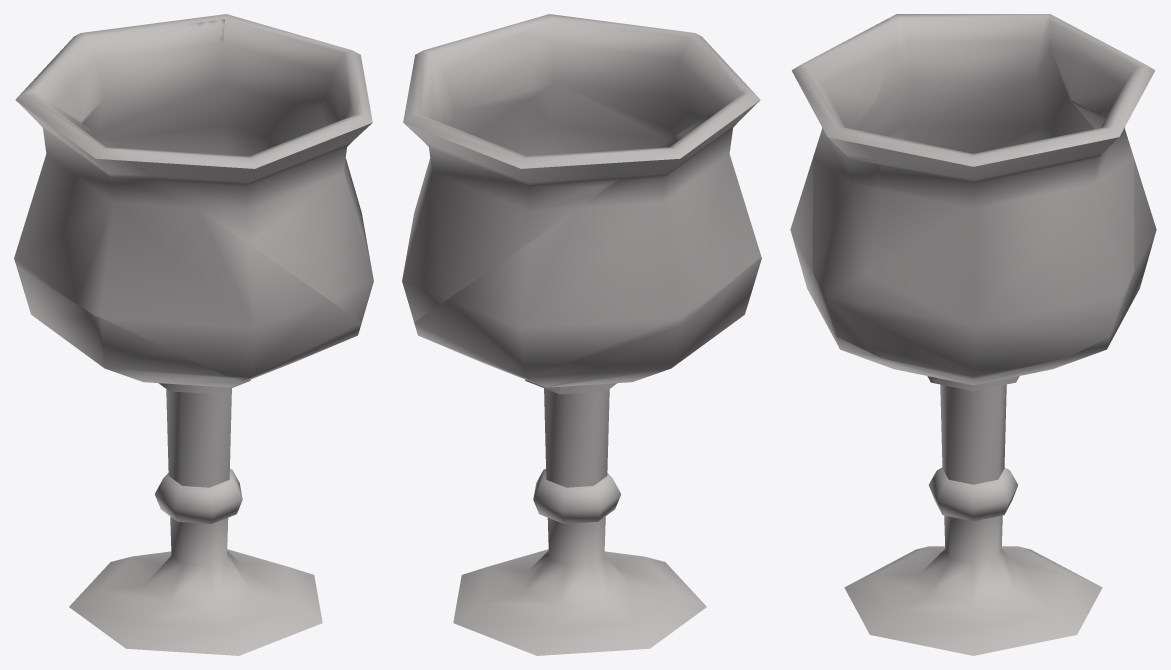
File: verre_shatter.fbx
The picture shows the model from 3 angles, left to right: view 1: azimuth 30°, elevation 25°; view 2: azimuth 150°, elevation 25°; view 3: azimuth 270°, elevation 25°; orthographic projection.
Parts seen in each view (by area): view 1: Pieces_2_2, Pieces_1_2, Pieces_1, Pieces_2_1, Pieces_2; view 2: Pieces_2_2, Pieces_1_2, Pieces_1, Pieces_2_1, Pieces_2; view 3: Pieces_1, Pieces_1_2, Pieces_2_2, Pieces_2_1, Pieces_2.
Part boxes in pixels (<box>): Pieces_2_2: <box>14,86,361,381</box>; Pieces_1_2: <box>17,268,322,655</box>; Pieces_1: <box>43,14,370,263</box>; Pieces_2_1: <box>112,100,373,321</box>; Pieces_2: <box>28,65,82,123</box>; Pieces_2_2: <box>414,86,760,387</box>; Pieces_1_2: <box>453,256,761,655</box>; Pieces_1: <box>402,22,605,321</box>; Pieces_2_1: <box>520,14,747,156</box>; Pieces_2: <box>599,147,663,193</box>; Pieces_1: <box>860,38,1155,379</box>; Pieces_1_2: <box>844,376,1102,655</box>; Pieces_2_2: <box>790,14,1156,391</box>; Pieces_2_1: <box>791,18,897,352</box>; Pieces_2: <box>1049,18,1095,103</box>.
Bounding box in the file's own units: 3.67 × 5.88 × 3.76.
Materials: 2 (1 with a texture image).
